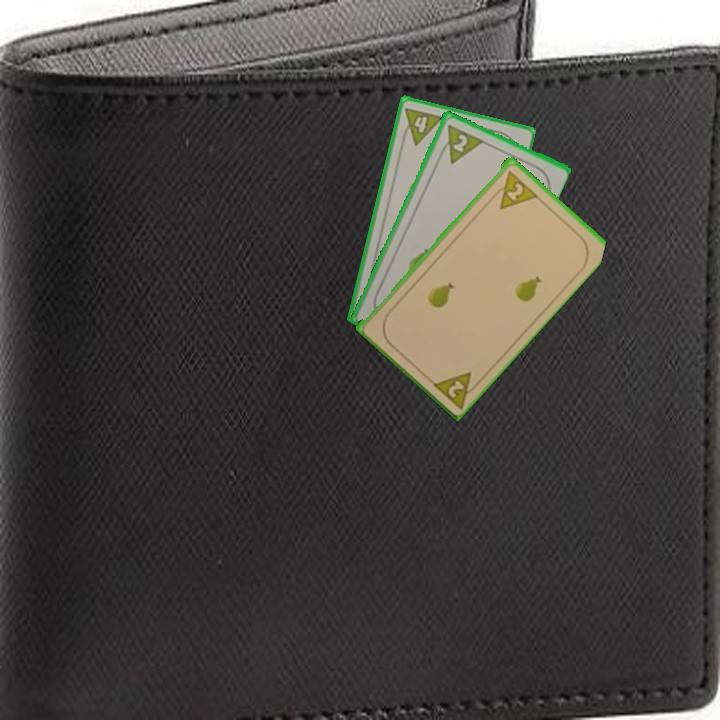2p: (428, 367, 484, 411), (488, 166, 540, 212), (434, 120, 485, 166)
4p: (398, 103, 446, 148)
